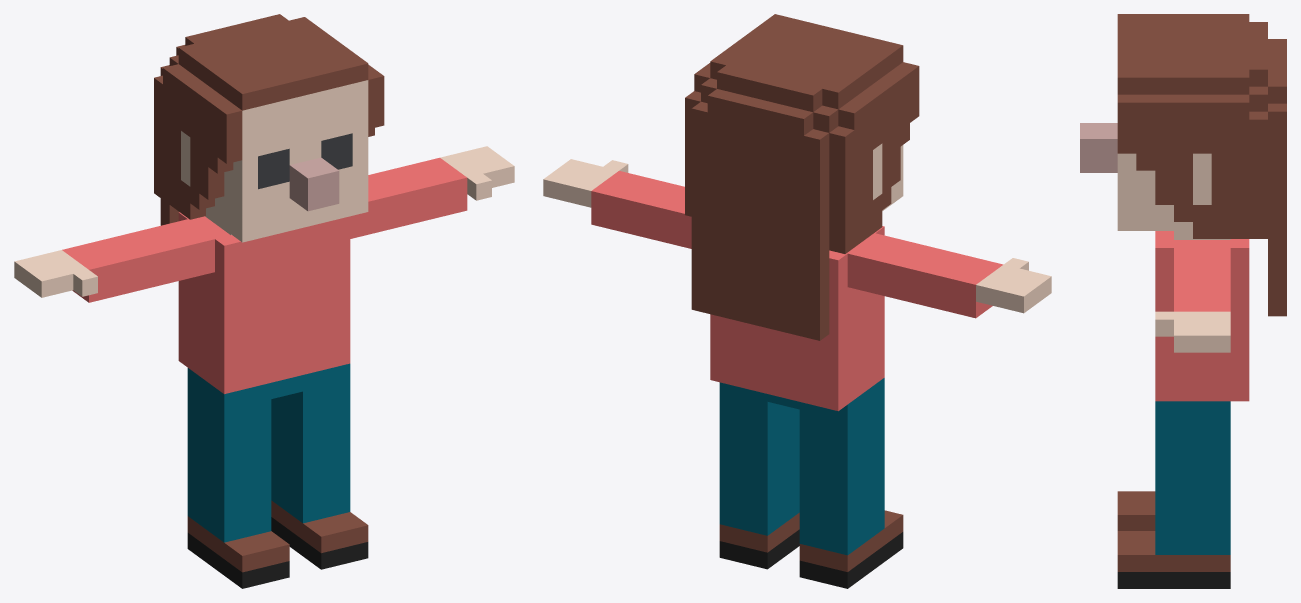
File: student-3.obj
The picture shows the model from 3 angles, left to right: view 1: azimuth 30°, elevation 25°; view 2: azimuth 150°, elevation 25°; view 3: azimuth 270°, elevation 25°; orthographic projection. The views are drawn at different scales.
Size of the model in its own units: 3 by 3 by 1.1.
Materials: 1 (1 with a texture image).
